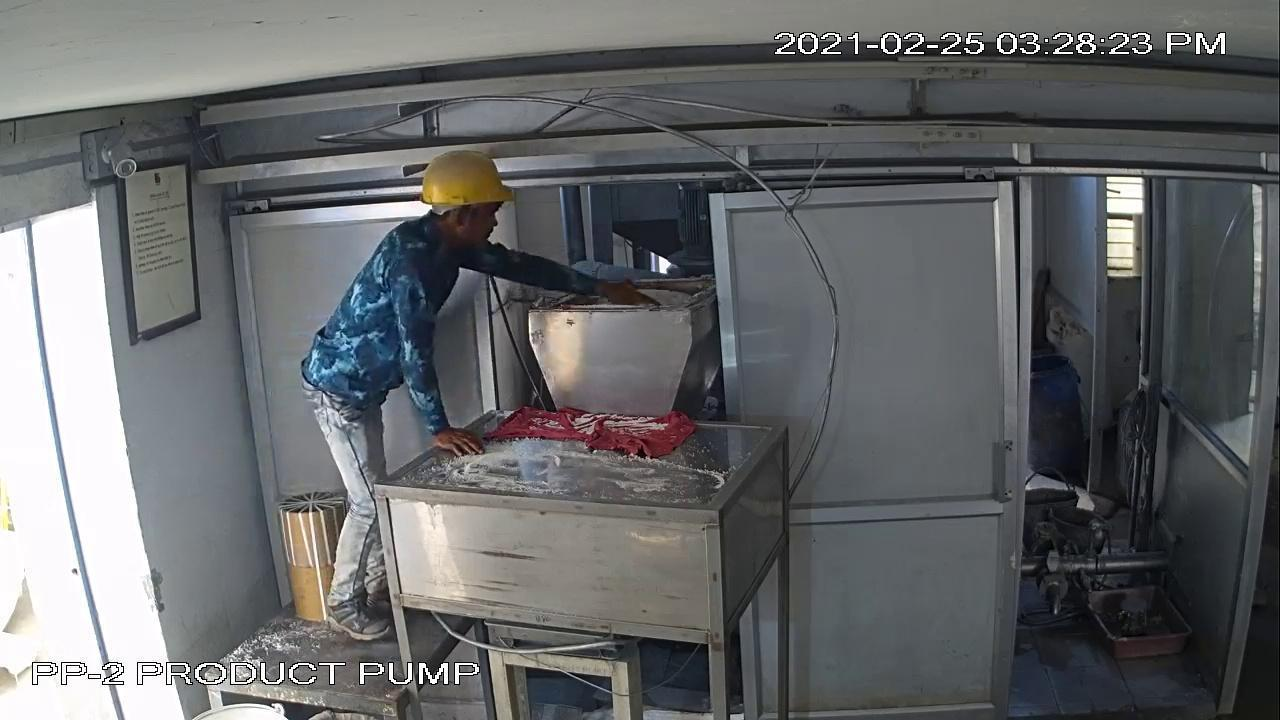helmet: (412, 145, 517, 218)
